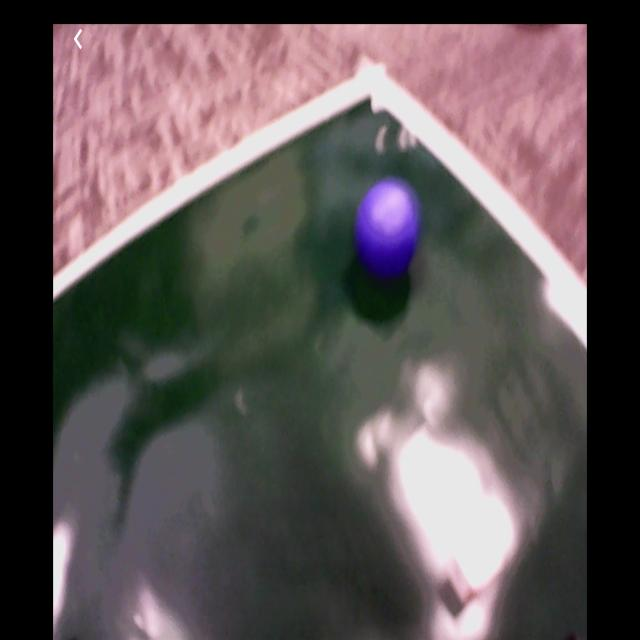ball: (357, 179, 420, 274)
